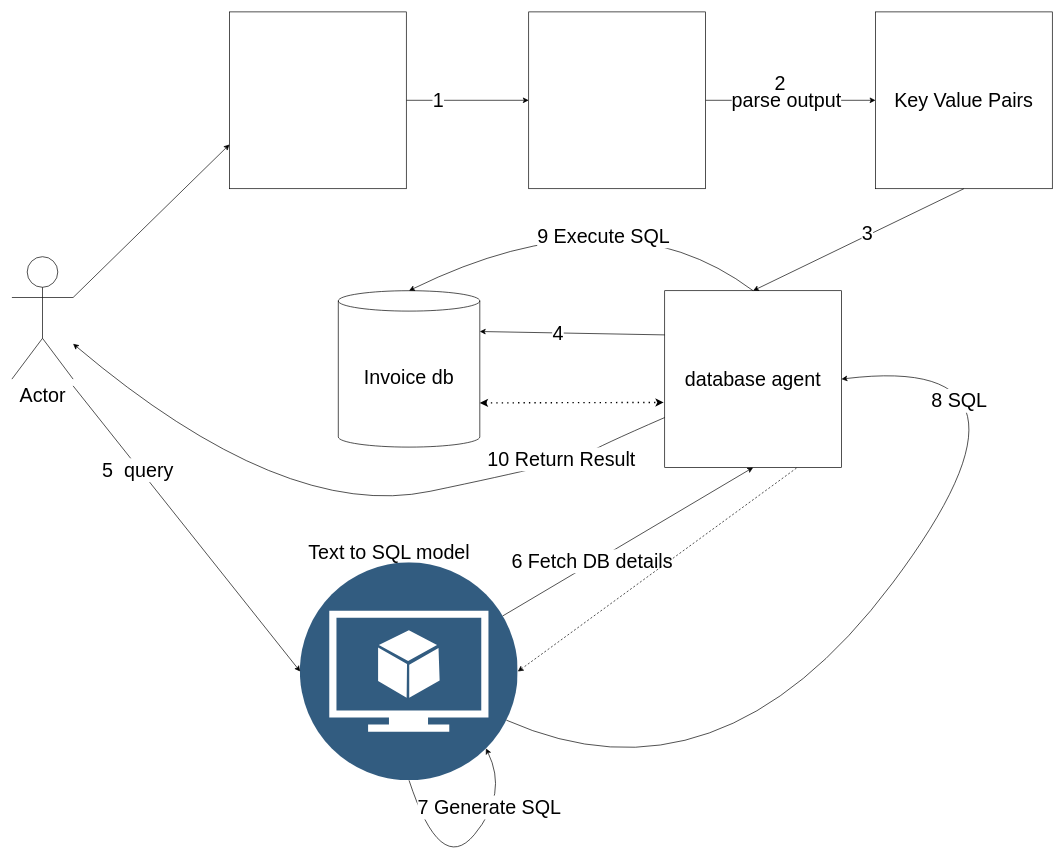
Image size: 1064x859. Some labels were removed from this diagram. Each missing label, with the centre of its shape:
"image of Invoice" goes at (x=317, y=100).
"Invoice information extractor" goes at (x=617, y=100).
